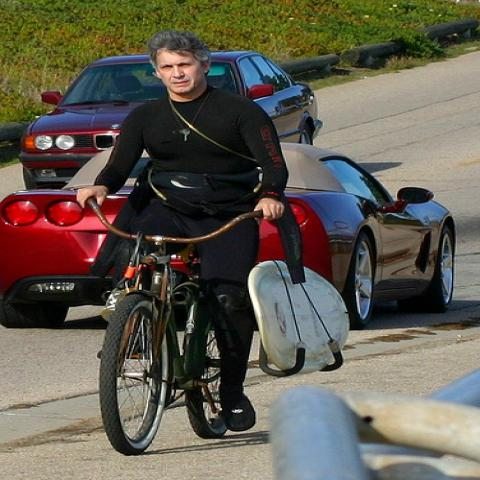car: (0, 141, 456, 330), (18, 50, 324, 191)
